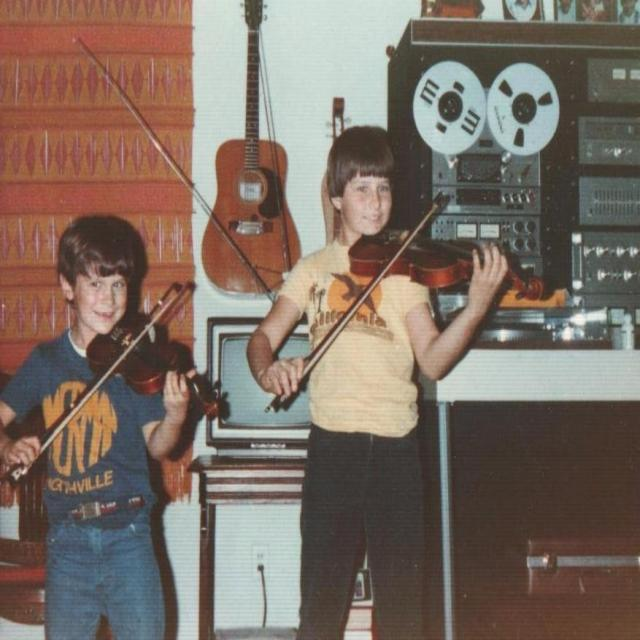guitar: (201, 0, 302, 303)
violin: (348, 226, 546, 304), (83, 319, 225, 424)
